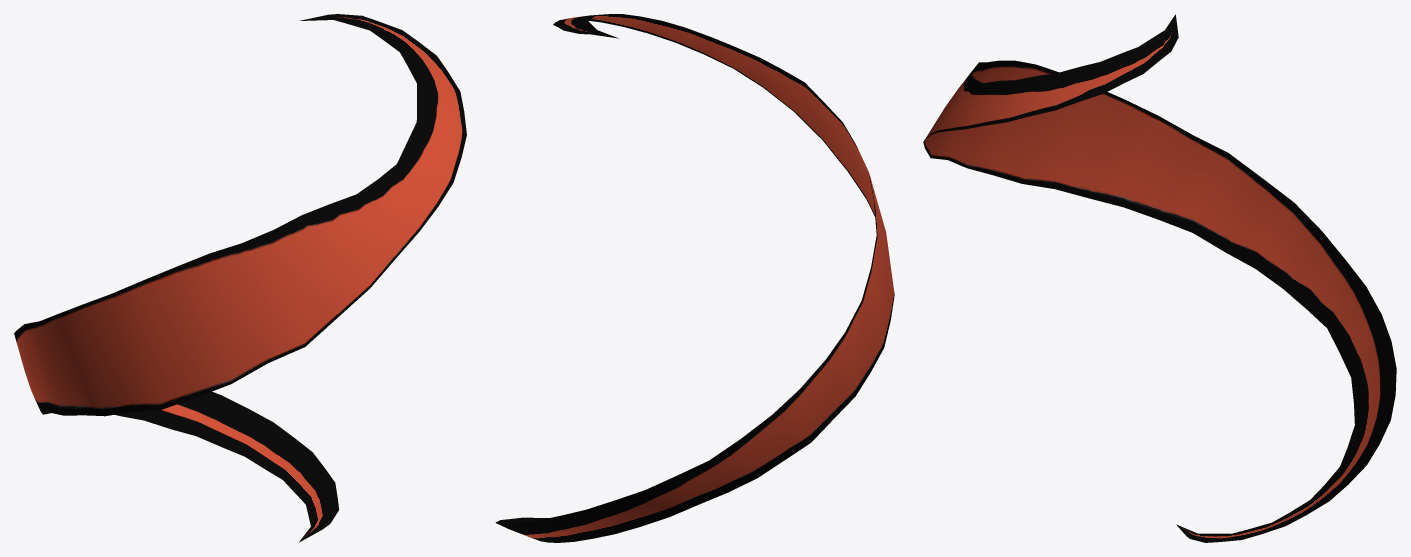
Rendered from yuanxianquan_1.FBX.
The picture shows the model from 3 angles, left to right: view 1: azimuth 30°, elevation 25°; view 2: azimuth 150°, elevation 25°; view 3: azimuth 270°, elevation 25°; orthographic projection. The views are drawn at different scales.
Visible parts, largest first — view 1: Sphere006; view 2: Sphere006; view 3: Sphere006.
Part boxes in pixels (left/top/right/bottom): Sphere006: left=14, top=14, right=466, bottom=542; Sphere006: left=495, top=14, right=894, bottom=542; Sphere006: left=923, top=14, right=1396, bottom=542.
Bounding box in the file's own units: 90.99 × 129 × 109.
